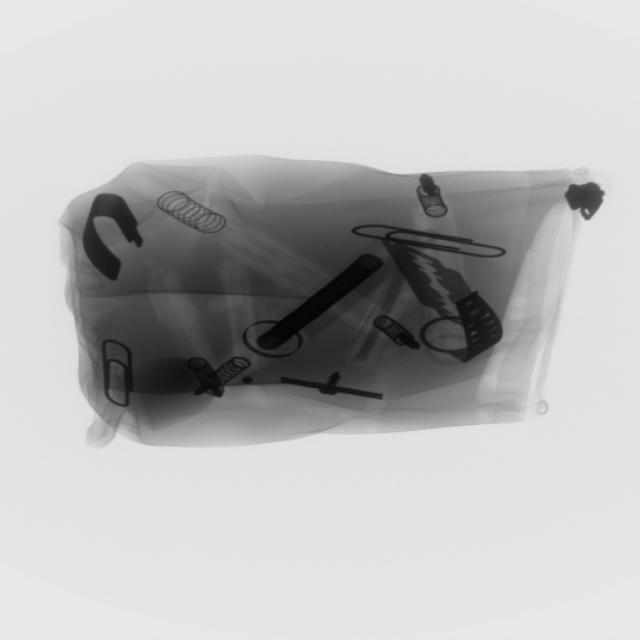BLADE: (378, 238, 480, 328)
